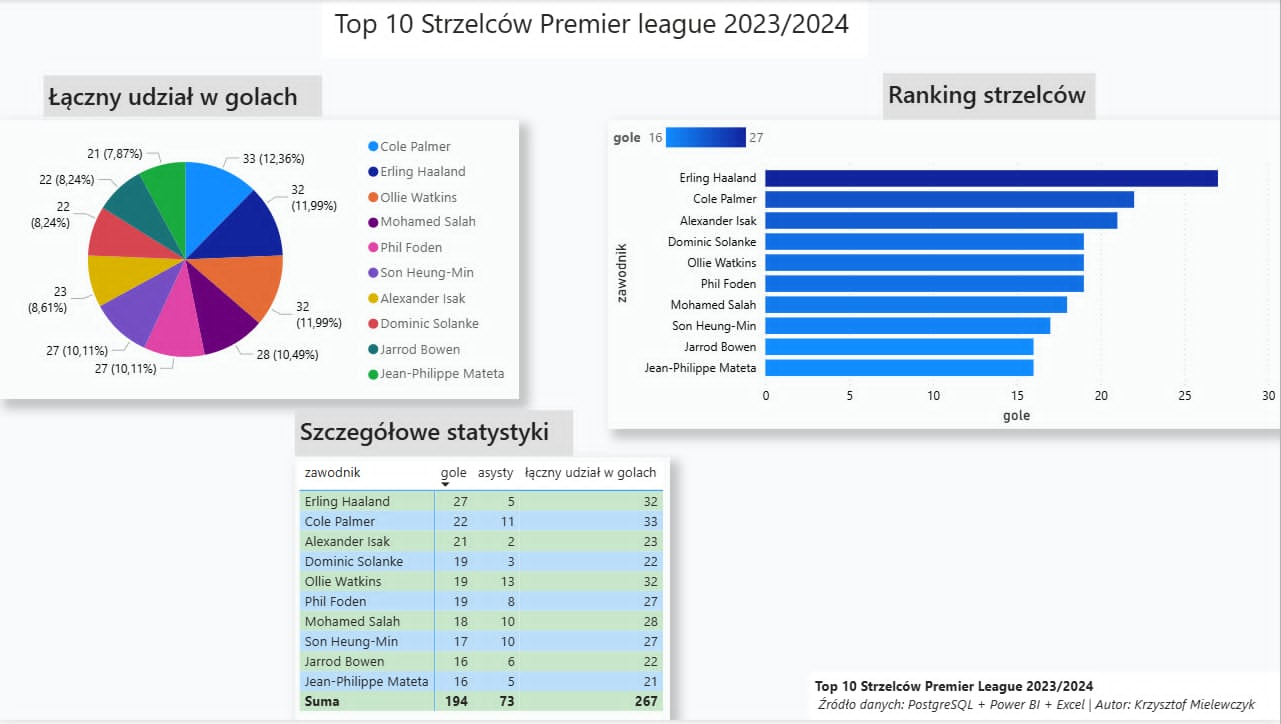

Layout of this report page (visuals, bound fields, positions):
{"tool":"powerbi","page":{"name":"Strona 1","canvas":[1280,720],"ordinal":0},"visuals":[{"type":"pieChart","fields":{"Category":["Zapytanie1.zawodnik"],"Y":["Zapytanie1.udzial_w_golach"]},"box":[0,119.7,520,279.6],"z":0},{"type":"barChart","fields":{"Category":["Zapytanie1.zawodnik"],"Y":["Zapytanie1.gole"]},"box":[609,119.7,671.5,308.2],"z":1000},{"type":"pivotTable","fields":{"Values":["Zapytanie1.gole","Zapytanie1.asysty","Zapytanie1.udzial_w_golach"],"Rows":["Zapytanie1.zawodnik"]},"box":[295.5,456.5,374.9,263.7],"z":2000},{"type":"textbox","box":[323,0,544.4,57.2],"z":3000},{"type":"textbox","box":[883.3,73.1,211.8,46.6],"z":4000},{"type":"textbox","box":[295.5,409.9,278.6,46.6],"z":5000},{"type":"textbox","box":[44.5,75.2,278.6,41.3],"z":6000},{"type":"textbox","box":[810.3,671.5,470.3,48.7],"z":7000}]}

Visuals, with their boxes in screenshot pixels (x1, y1, x2, y2), scaled from the page's 1280x720 canvas onto the 1281x724 screenshot:
pieChart - Zapytanie1.zawodnik x Zapytanie1.udzial_w_golach: crop(0, 120, 520, 402)
barChart - Zapytanie1.zawodnik x Zapytanie1.gole: crop(609, 120, 1280, 430)
pivotTable - Zapytanie1.gole x Zapytanie1.asysty: crop(296, 459, 671, 723)
textbox: crop(323, 0, 868, 58)
textbox: crop(884, 74, 1096, 120)
textbox: crop(296, 412, 575, 459)
textbox: crop(45, 76, 323, 117)
textbox: crop(811, 675, 1280, 723)
